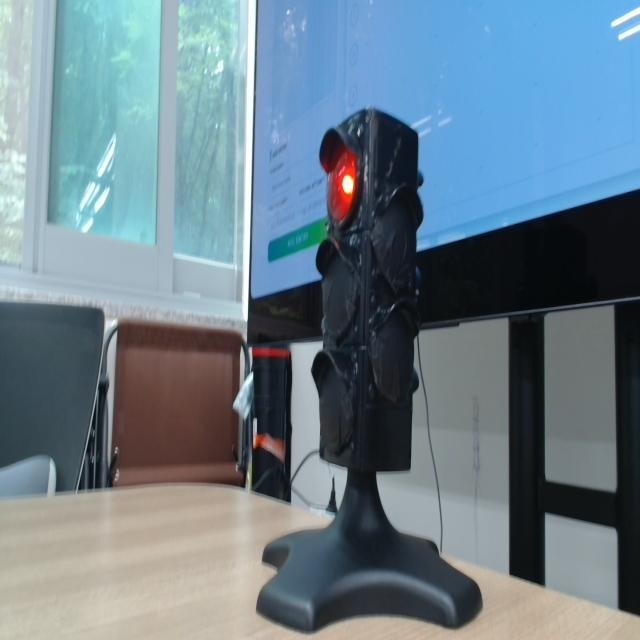red_light: (327, 145, 357, 225), (342, 174, 354, 195)
